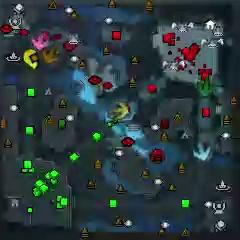p4: (22, 49, 39, 70)
x1: (31, 32, 48, 51)
x2: (109, 101, 128, 119)
x3: (193, 142, 213, 161)
x4: (198, 77, 215, 96)
x5: (40, 45, 58, 64)
